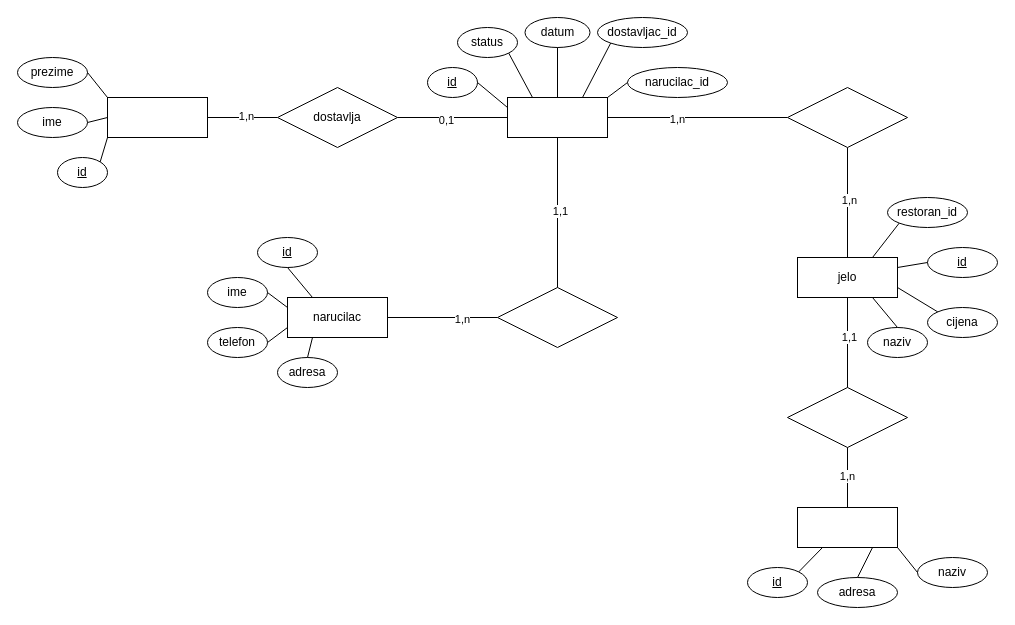
Some shapes in this 1015 by 625 pixel diagram are drawn without their labels. Here are the shapes that lost their labels. From the top down, the centre of each, then its label:
At point 157,117: "dostavljac".
At point 557,117: "naruzbina".
At point 847,117: "nalazi".
At point 557,317: "vrsi".
At point 847,417: "ima".
At point 847,527: "restoran".
